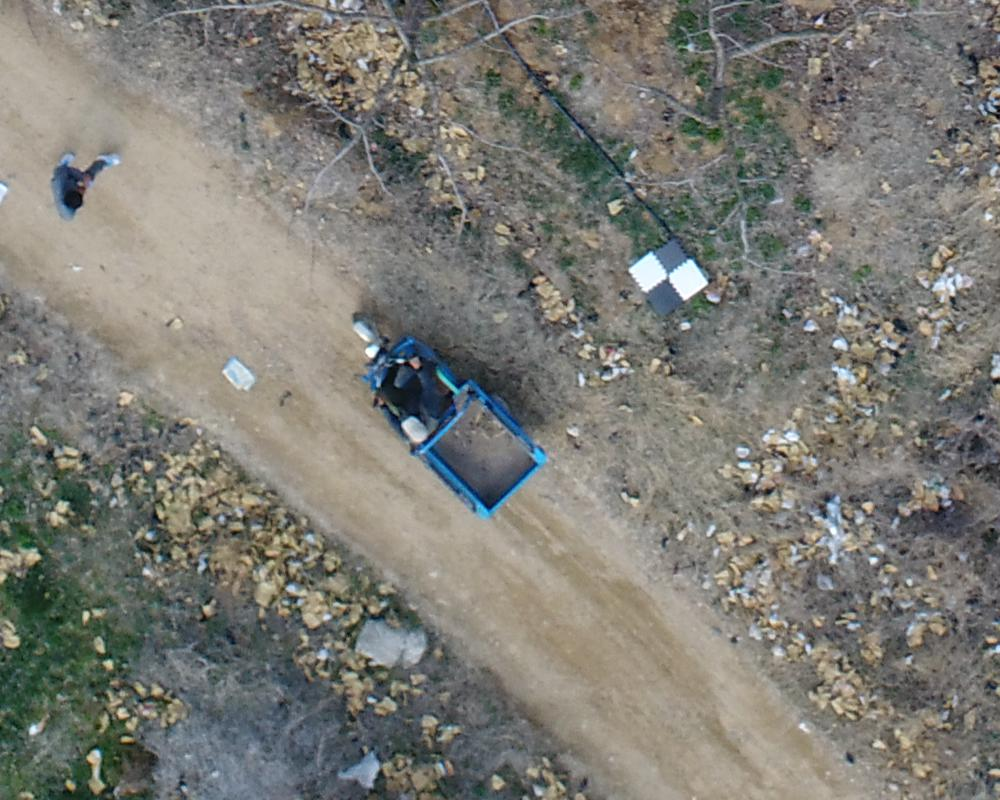apple: (142, 10, 553, 244), (589, 10, 850, 289)
